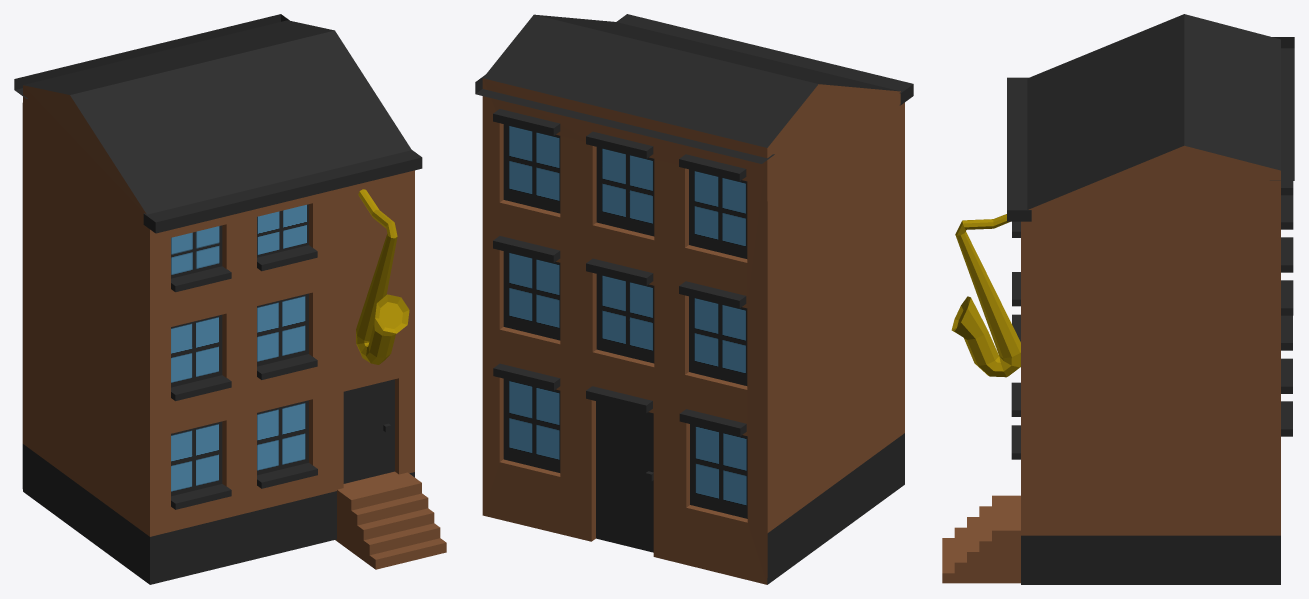
File: JazzSaxophone1.obj
The picture shows the model from 3 angles, left to right: view 1: azimuth 30°, elevation 25°; view 2: azimuth 150°, elevation 25°; view 3: azimuth 270°, elevation 25°; orthographic projection. The views are drawn at different scales.
Parts seen in each view (by area): view 1: Saksofon; view 2: Saksofon; view 3: Saksofon.
Part boxes in pixels (box(x1,y1,x2,y2)): Saksofon: box(14, 14, 446, 584); Saksofon: box(475, 14, 913, 584); Saksofon: box(942, 14, 1294, 584).
Bounding box in the file's own units: 6.03 × 9.37 × 6.78.
